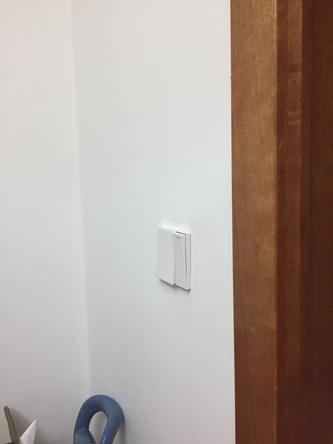switch: (171, 234, 189, 291), (156, 230, 169, 285)
